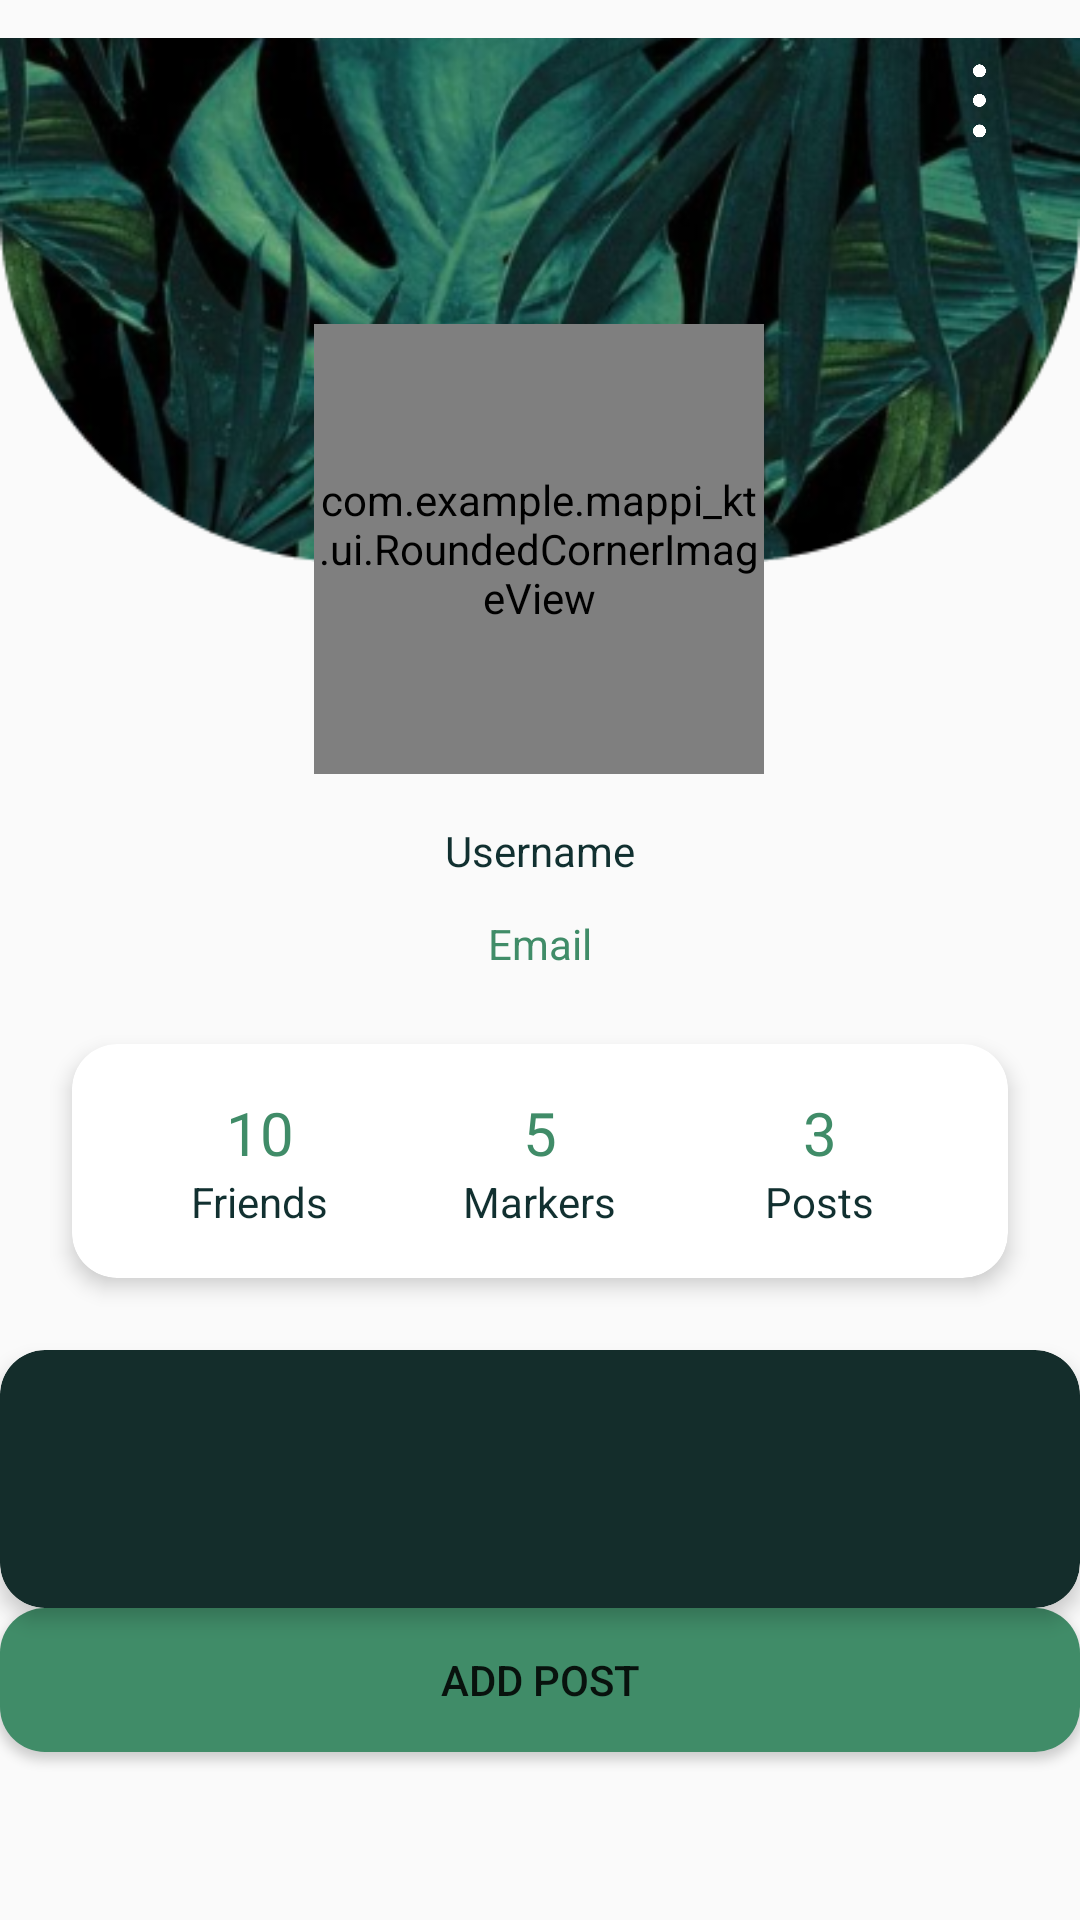

Where to tap for icons on this 1080×1920 app screen, as [x,y]:
menu: [979,100]
